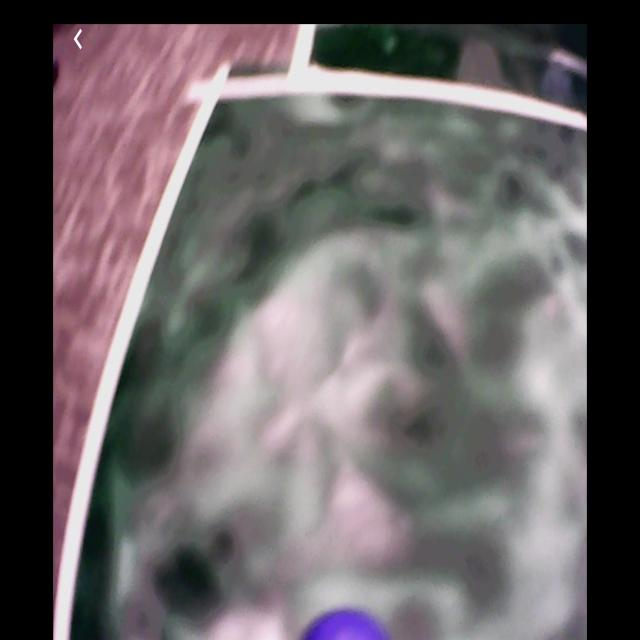ball: (302, 607, 385, 640)
